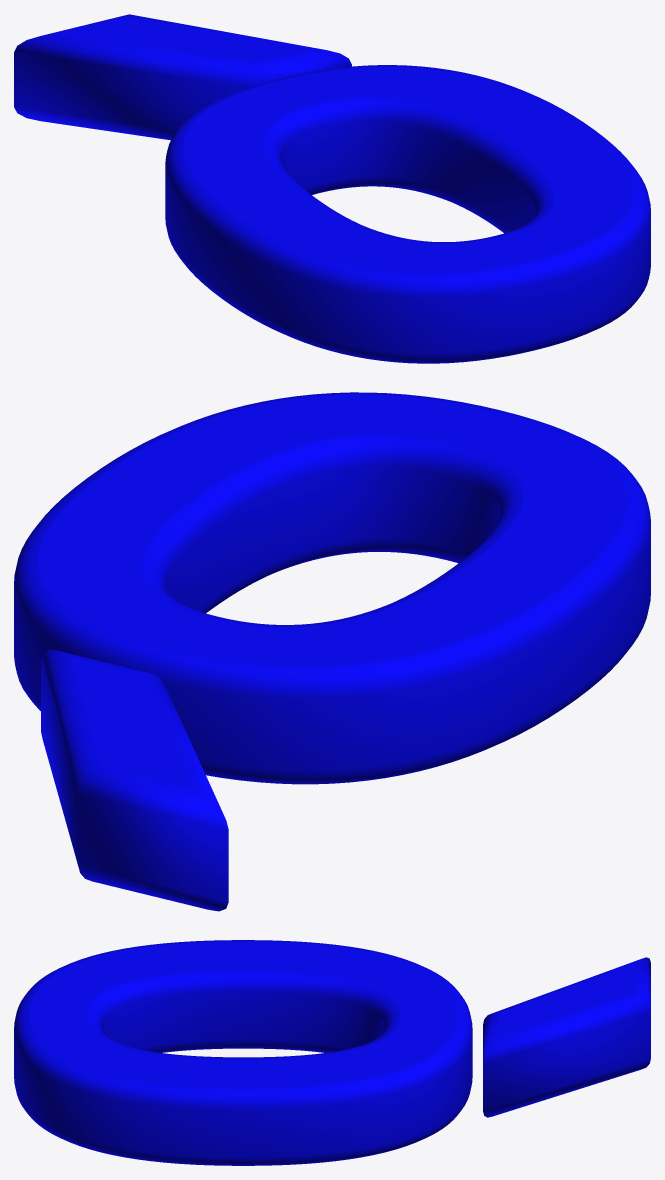
3 views of the same model, one above another, from view 1: azimuth 30°, elevation 25°; view 2: azimuth 150°, elevation 25°; view 3: azimuth 270°, elevation 25° (orthographic). The views are drawn at different scales.
Visible parts, largest first — view 1: 242; view 2: 242; view 3: 242.
Boxes of the visible parts, x1,y1,x2,y2 form: 242: [14, 14, 650, 363]; 242: [14, 392, 650, 911]; 242: [14, 940, 650, 1165].
Bounding box in the file's own units: 0.7276 × 0.16 × 1.22.
